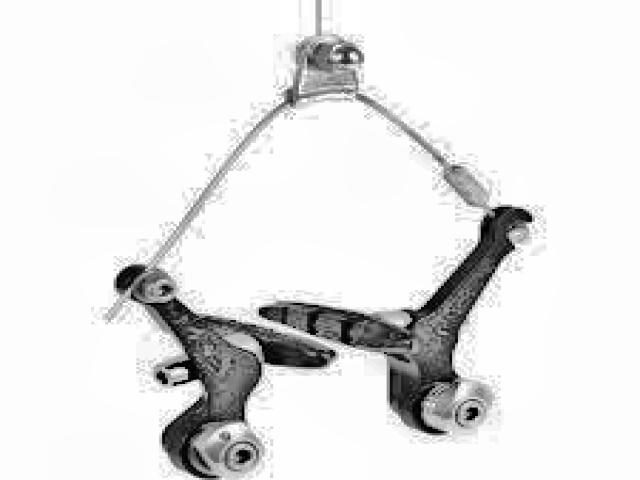rim_brake: (111, 204, 536, 476)
